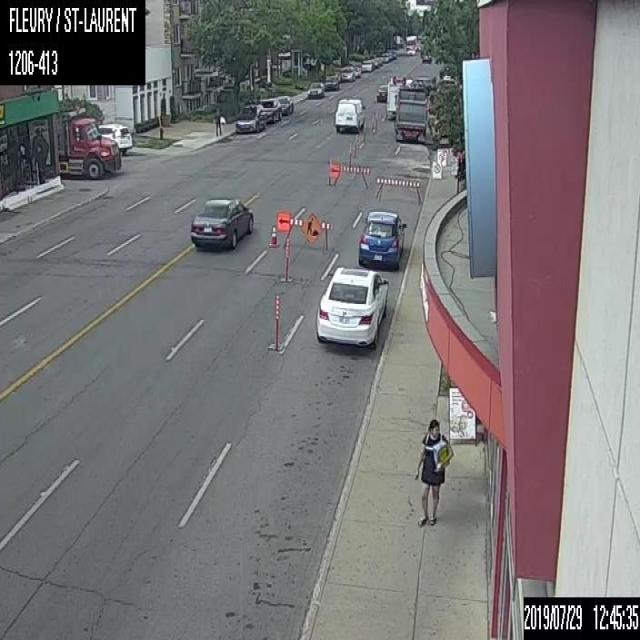construction: (282, 216, 332, 249), (374, 174, 421, 207), (326, 157, 369, 185), (299, 211, 323, 246), (267, 292, 279, 349), (280, 237, 292, 280), (276, 211, 291, 231), (268, 224, 278, 246), (329, 162, 339, 176)
pedestrian: (411, 419, 453, 525), (210, 101, 224, 138)
vehicle: (316, 265, 389, 347), (56, 96, 121, 180), (190, 193, 253, 248), (358, 210, 406, 271), (393, 84, 430, 141), (334, 93, 366, 132), (97, 124, 133, 154), (386, 76, 411, 119), (233, 103, 265, 133), (258, 97, 280, 122), (275, 95, 293, 114), (306, 80, 324, 96), (339, 65, 354, 81), (405, 34, 416, 54), (323, 75, 338, 89), (376, 84, 386, 100), (361, 60, 371, 71), (421, 54, 432, 62)
